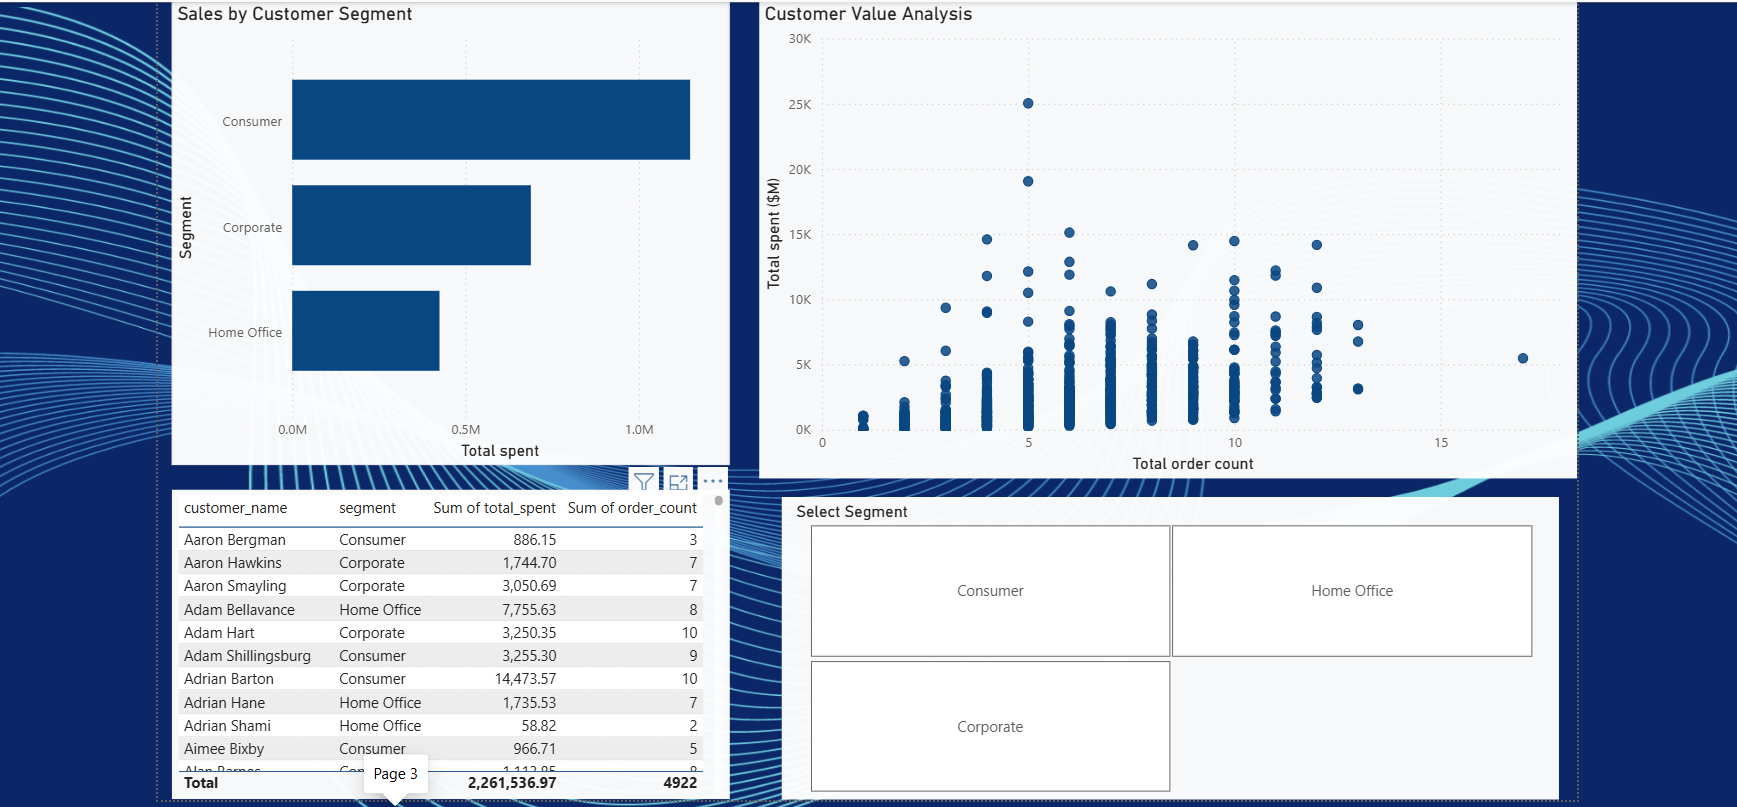

The page's visual inventory and layout, read from the dashboard file:
{"tool":"powerbi","page":{"name":"Page 3","canvas":[1280,720],"ordinal":2},"visuals":[{"type":"clusteredBarChart","title":"Sales by Customer Segment","fields":{"Category":["sales_analytics view_customer_analysis.segment"],"Y":["Sum(sales_analytics view_customer_analysis.total_spent)"]},"box":[11.9,0,502.9,417.6],"z":0},{"type":"tableEx","fields":{"Values":["sales_analytics view_customer_analysis.customer_name","sales_analytics view_customer_analysis.segment","Sum(sales_analytics view_customer_analysis.total_spent)","Sum(sales_analytics view_customer_analysis.order_count)"]},"box":[11.9,439.8,502.9,279.6],"z":1000},{"type":"scatterChart","title":"Customer Value Analysis","fields":{"X":["Sum(sales_analytics view_customer_analysis.order_count)"],"Y":["Sum(sales_analytics view_customer_analysis.total_spent)"],"Category":["sales_analytics view_customer_analysis.segment"]},"box":[542.1,0,738.1,429.6],"z":2000},{"type":"slicer","fields":{"Values":["sales_analytics view_customer_analysis.segment"]},"box":[562.5,446.6,700.6,272.7],"z":3000}]}

Visuals, with their boxes in screenshot pixels (x1, y1, x2, y2):
"Sales by Customer Segment" clusteredBarChart: BBox(167, 0, 722, 461)
tableEx - sales_analytics view_customer_analysis.customer_name x sales_analytics view_customer_analysis.segment: BBox(167, 485, 722, 793)
"Customer Value Analysis" scatterChart: BBox(752, 0, 1566, 474)
slicer - sales_analytics view_customer_analysis.segment: BBox(774, 493, 1547, 793)
